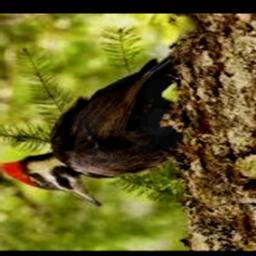Woodpecker: (0, 55, 183, 207)
